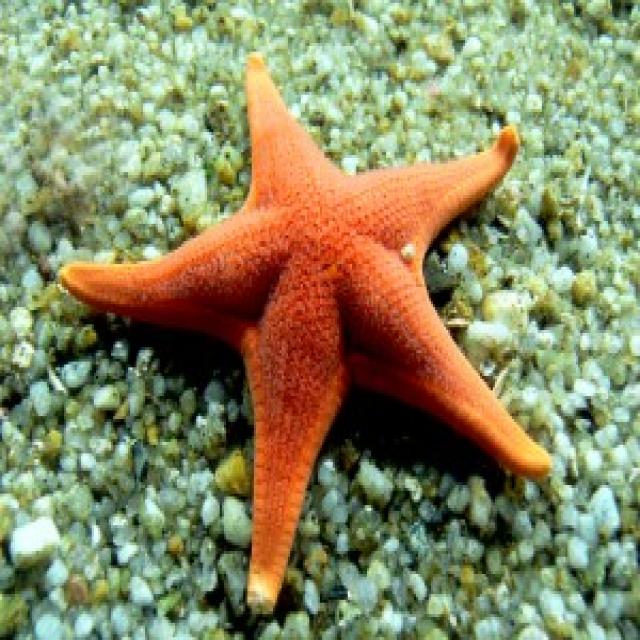Starfish: (52, 38, 564, 622)
